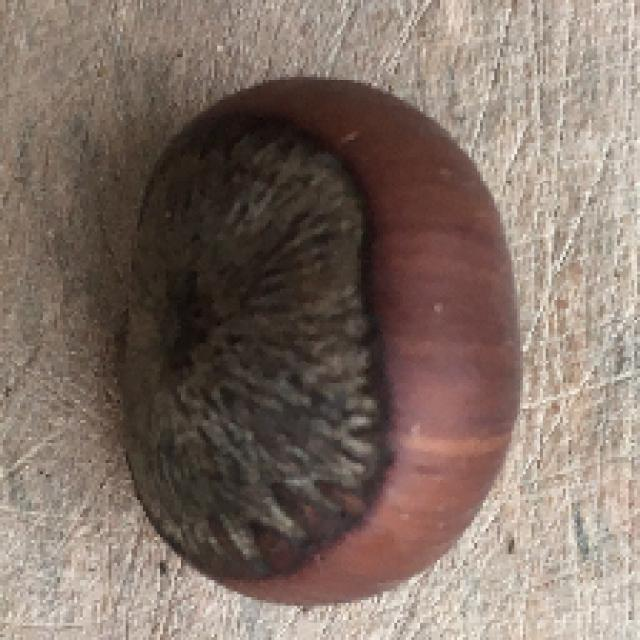damagedHazelnut: (108, 71, 524, 608)
